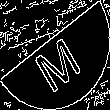M_NW: (27, 21, 83, 89)
